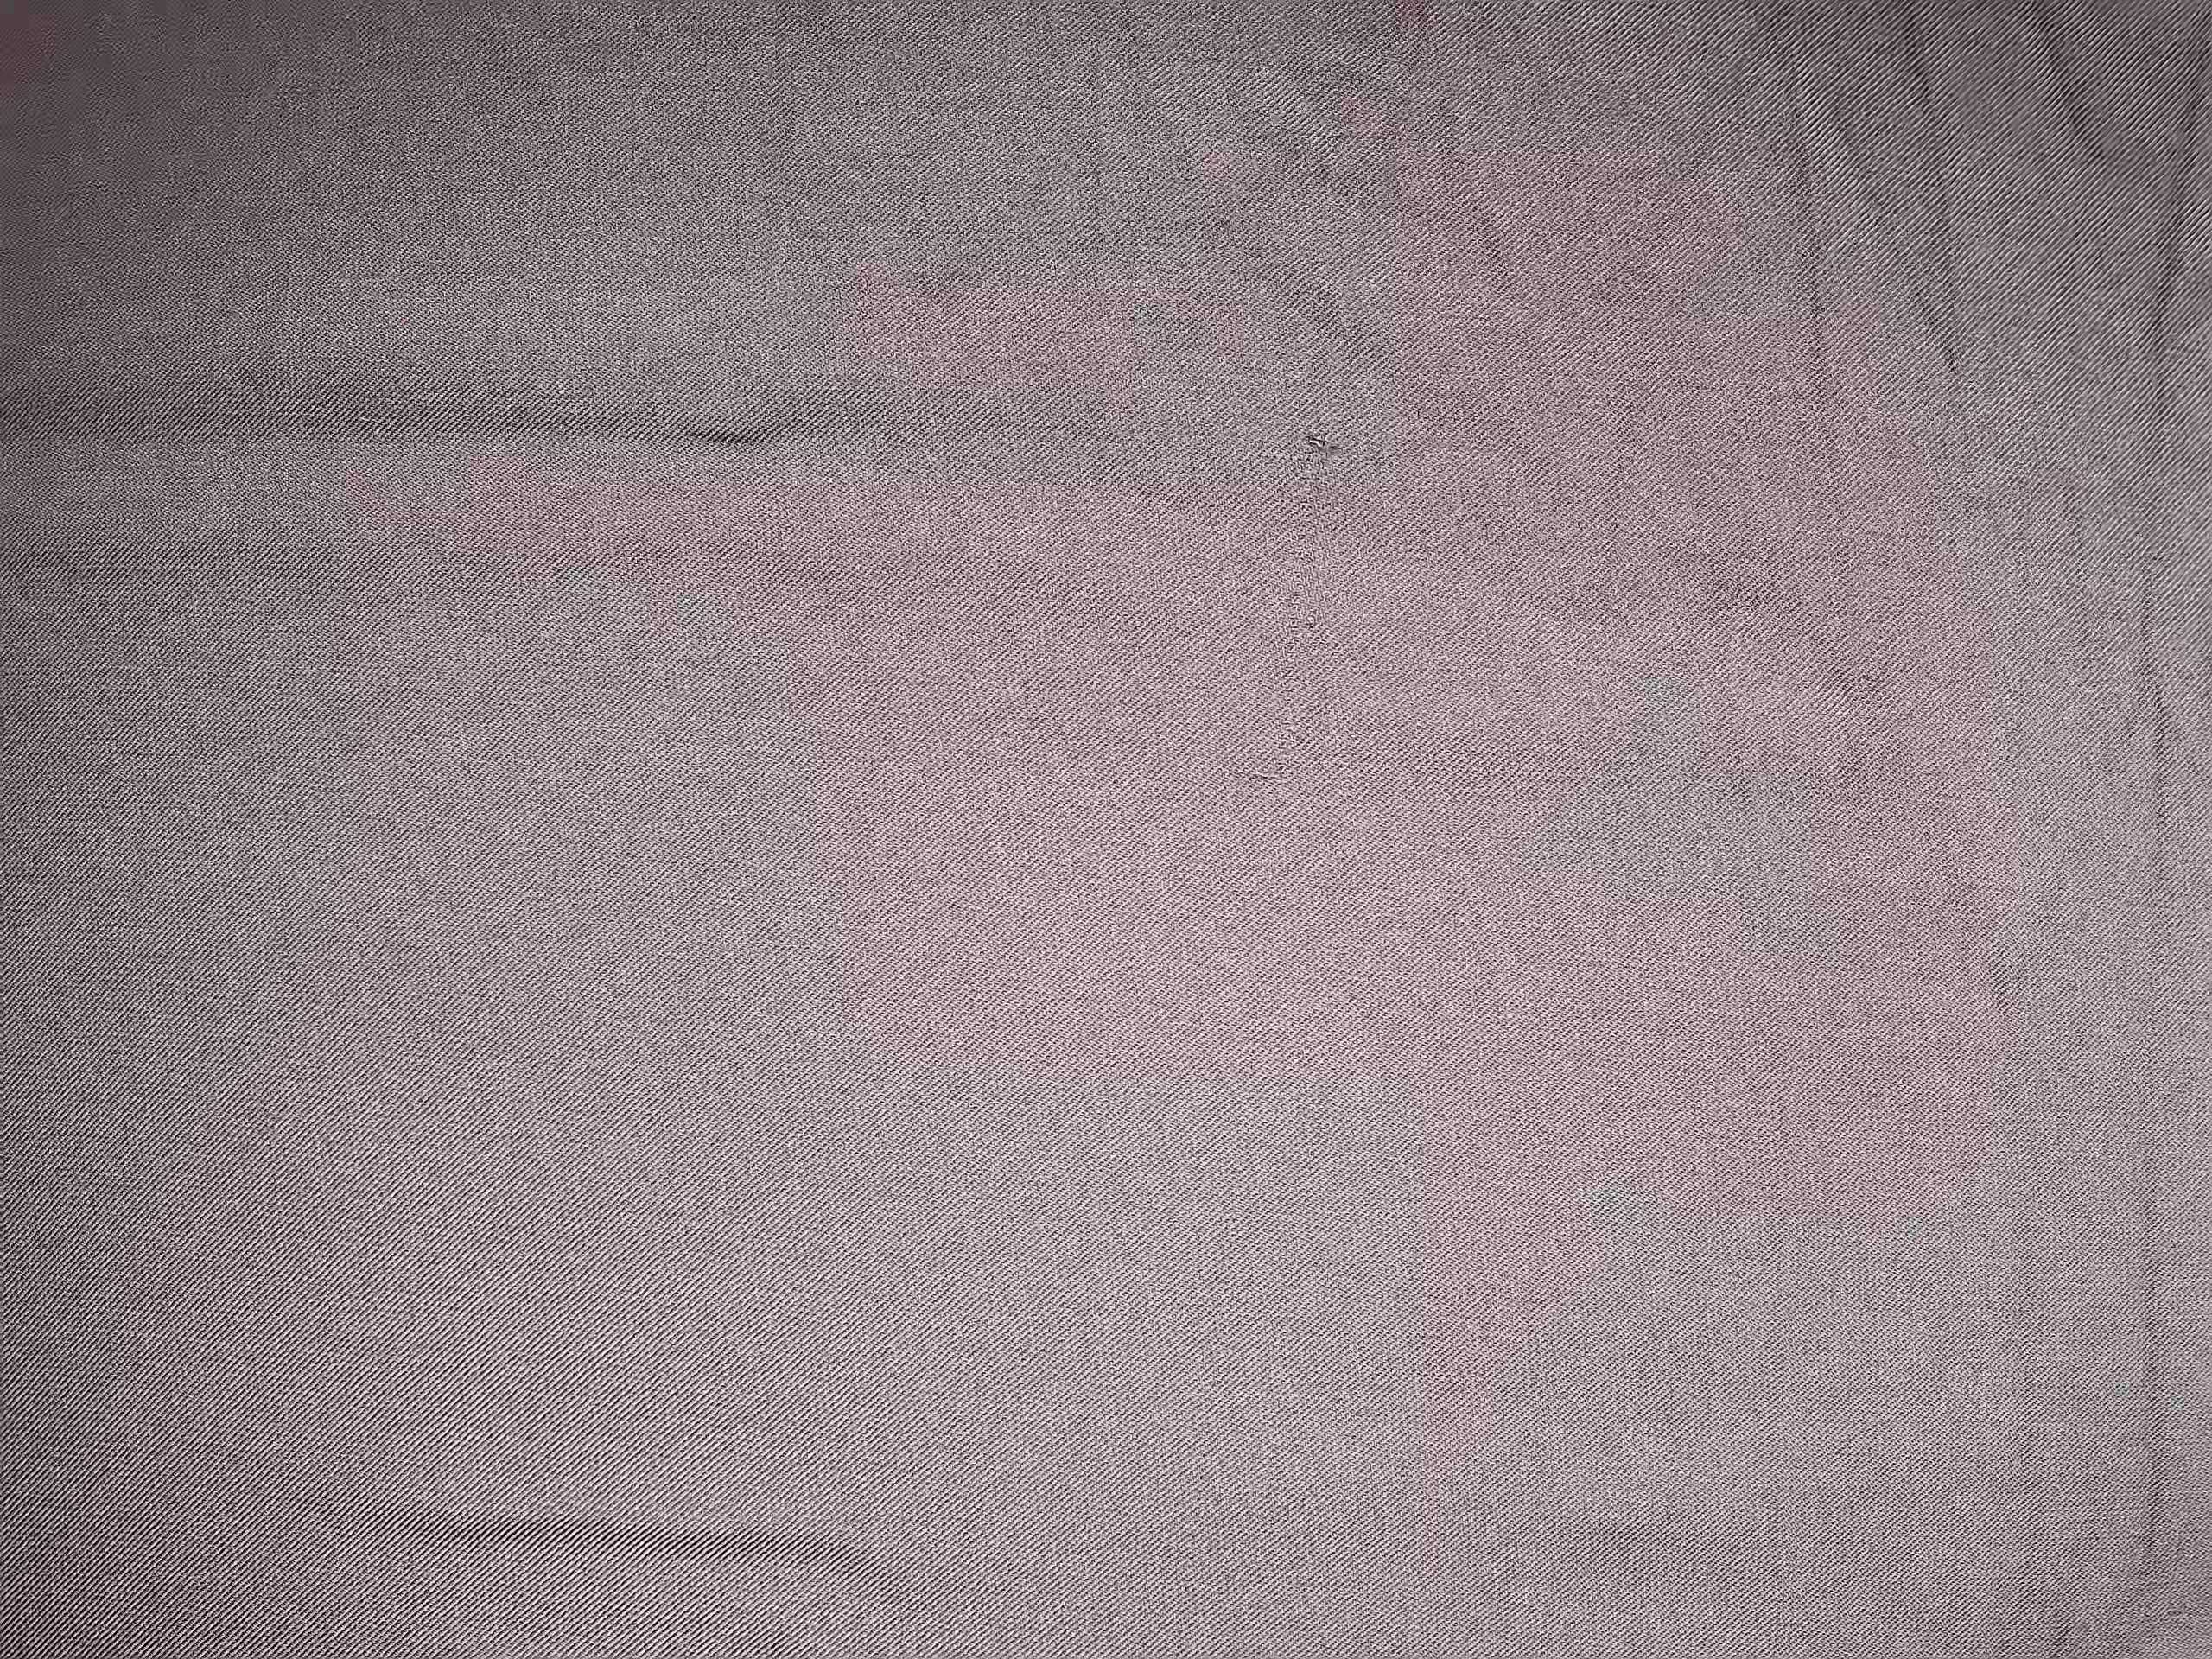hanging-warp: (1282, 390, 1366, 547)
